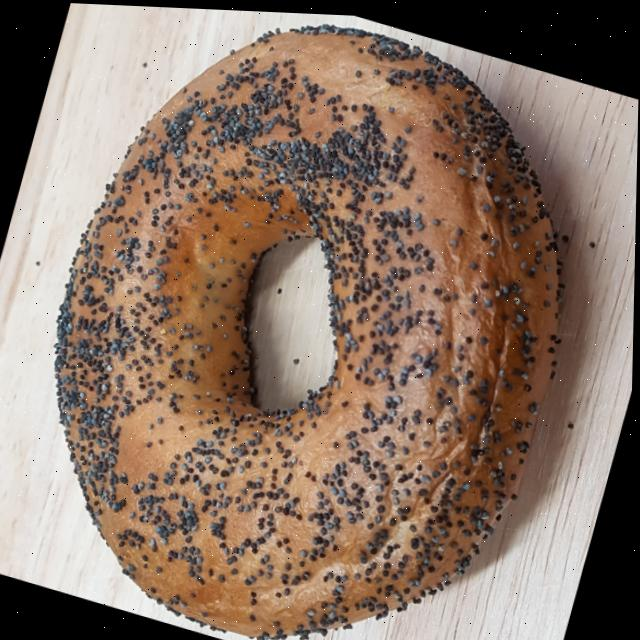Bagel: (56, 21, 562, 637)
